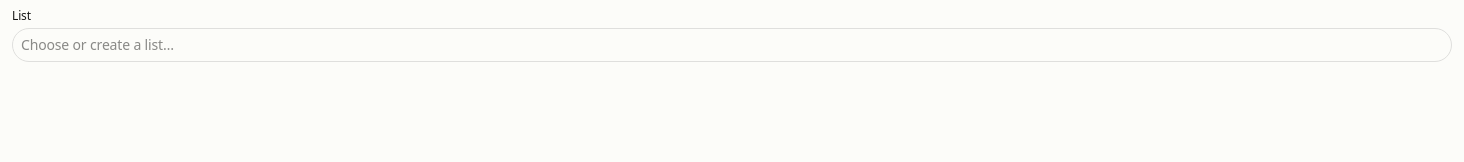
it: AddToList result handling › reports already-member instead of duplicating
Type "Lisbon" into the dropdown with test id "add-list-choice" at (732, 45), box [12, 28, 1452, 62]
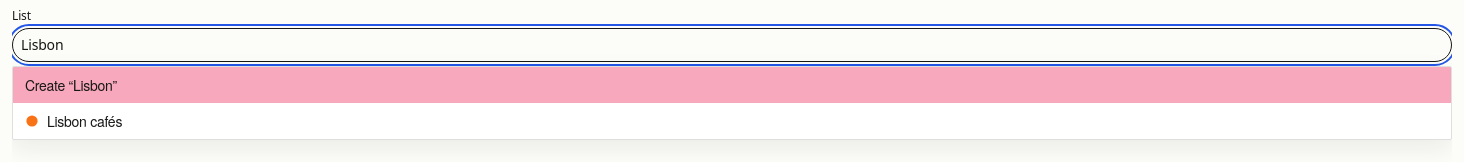
Click the option with test id "add-option-list-1" at (85, 121), box [13, 103, 1451, 139]
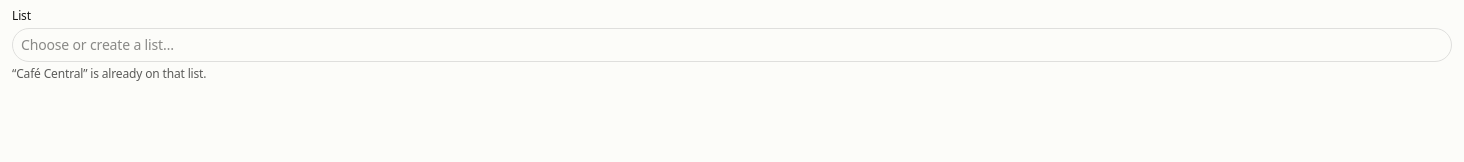
Check: the text with test id "add-message" shows "already", box [12, 65, 206, 82]
